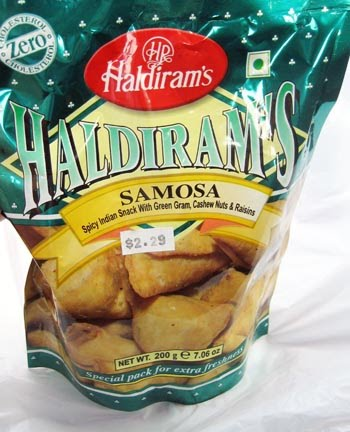VEG: (245, 50, 270, 79)
